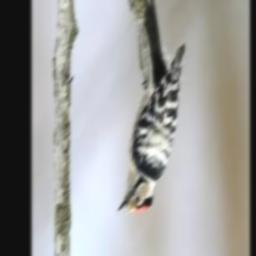Woodpecker: (118, 0, 185, 215)
